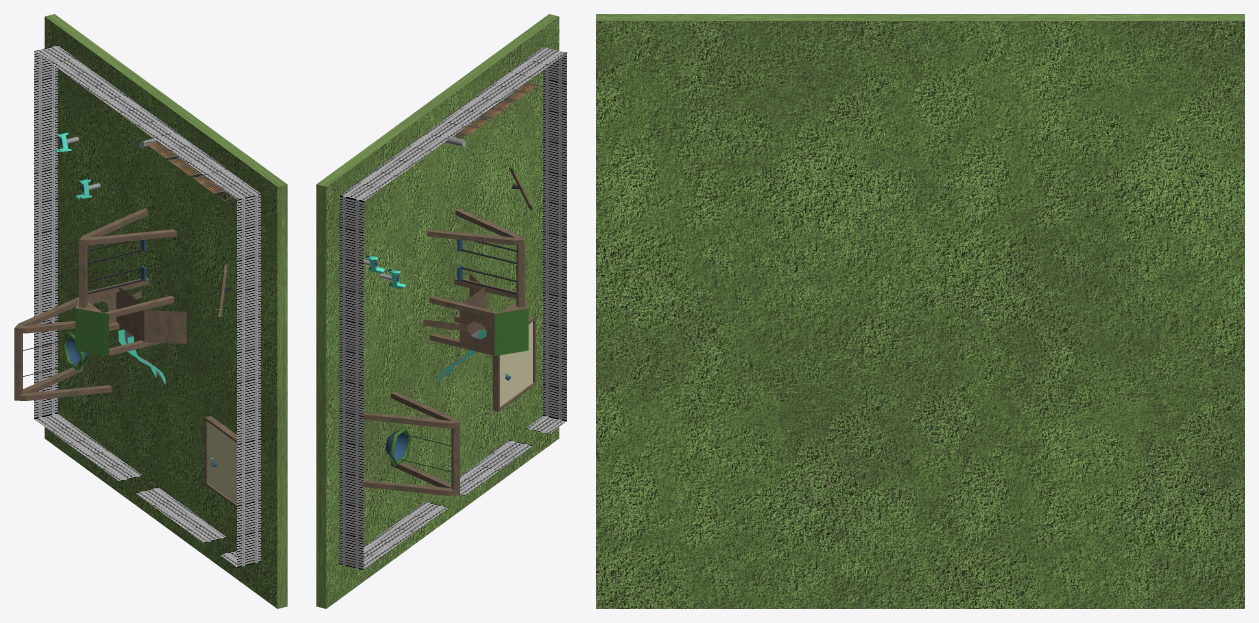
Rendered from park01.fbx.
The picture shows the model from 3 angles, left to right: view 1: azimuth 30°, elevation 25°; view 2: azimuth 150°, elevation 25°; view 3: azimuth 270°, elevation 25°; orthographic projection. The views are drawn at different scales.
Parts seen in each view (by area): view 1: fun_park01; view 2: fun_park01; view 3: fun_park01.
Part boxes in pixels (box(x1,y1,x2,y2)): fun_park01: box(14, 14, 287, 608); fun_park01: box(316, 14, 567, 608); fun_park01: box(596, 14, 1244, 608).
Size of the model in its own units: 20 by 20 by 4.75.
11 materials, 7 textured.
